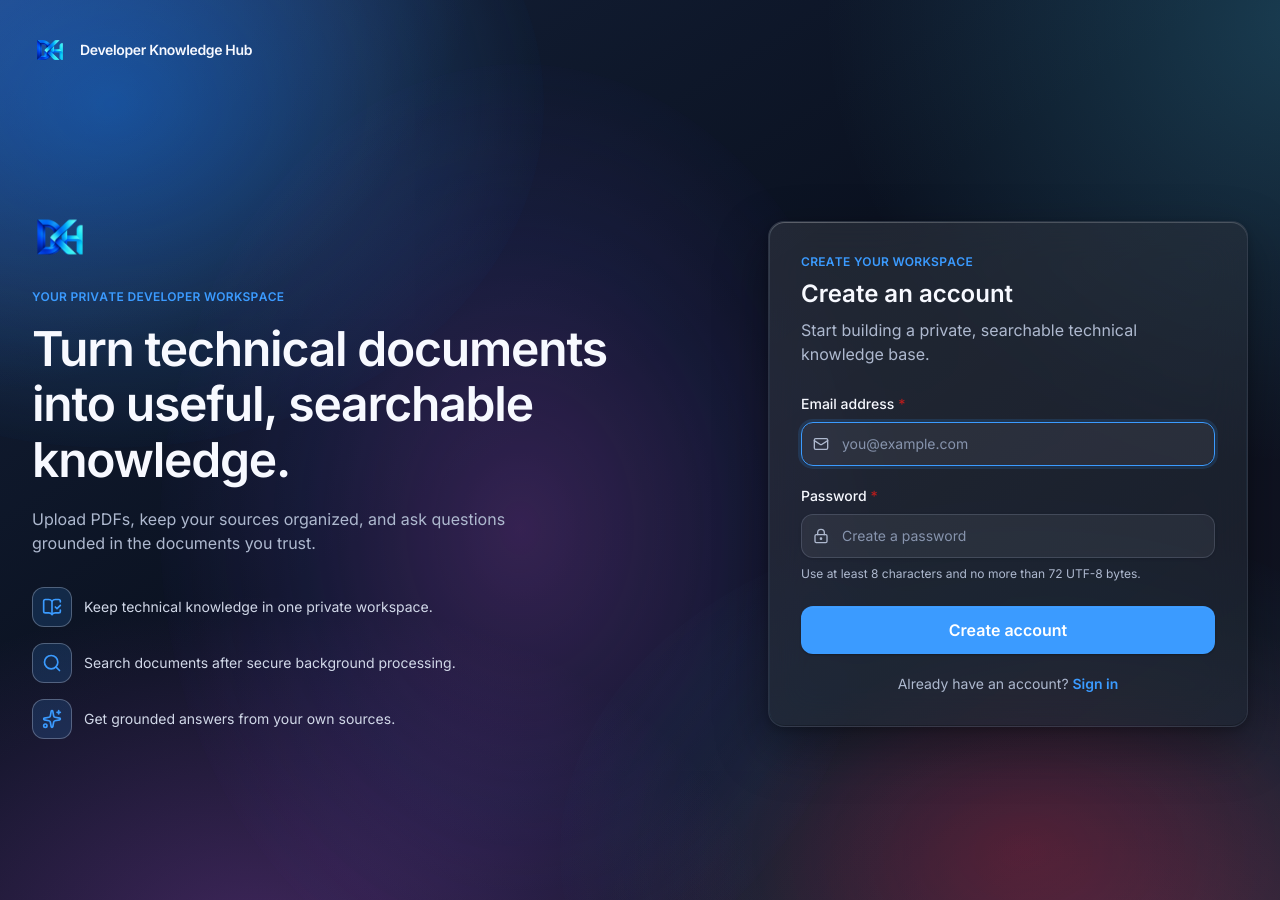
Scenario: authentication pages › returns a newly registered user to Login because registration creates no session
This screenshot has width=1280, height=900.
Step 1. Type "new.developer@example.com" into the field labelled "Email address*" → point(1008, 444), box [801,422,1215,466]
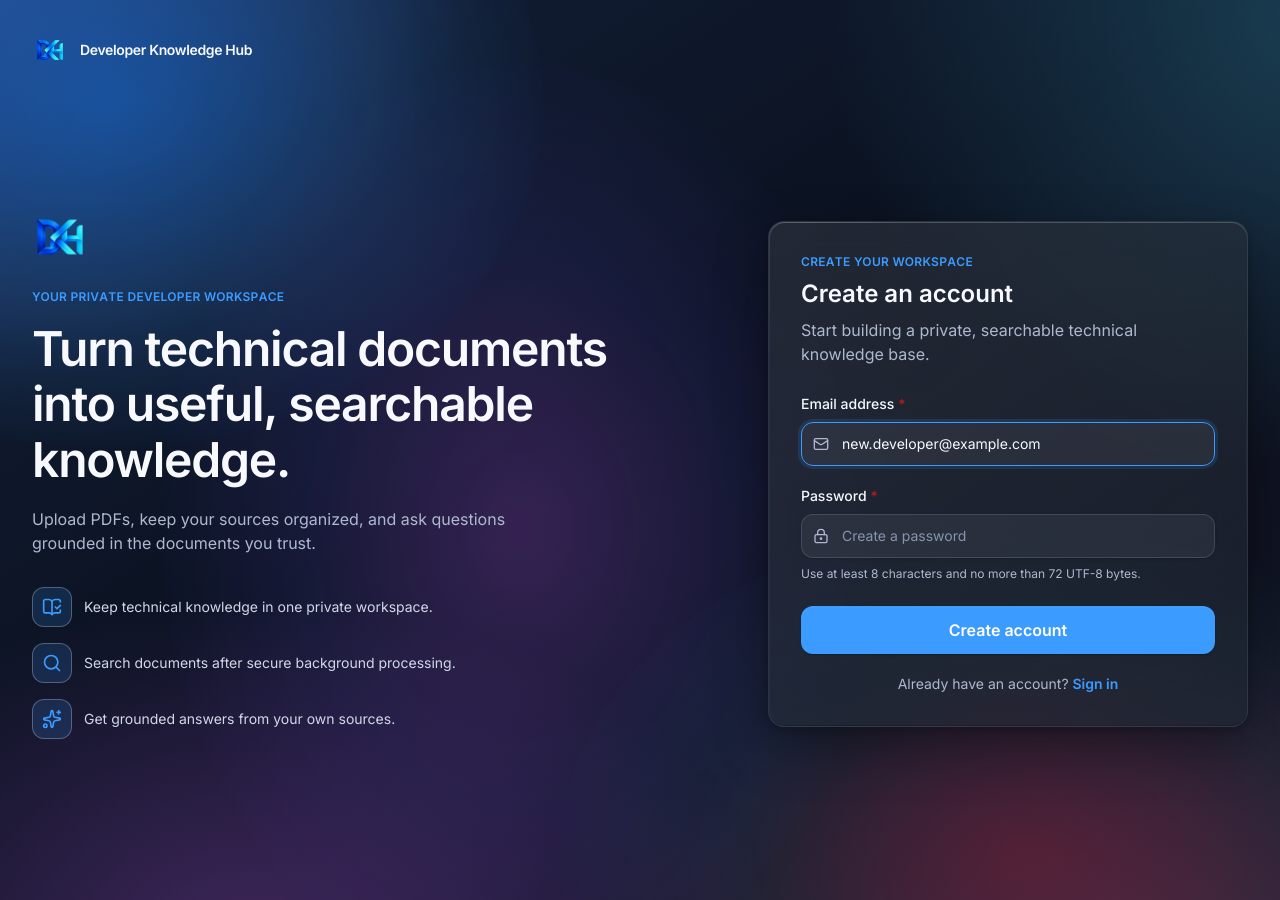
Step 2. Type "password123" into the password field labelled "Password*" → point(1008, 536), box [801,514,1215,558]
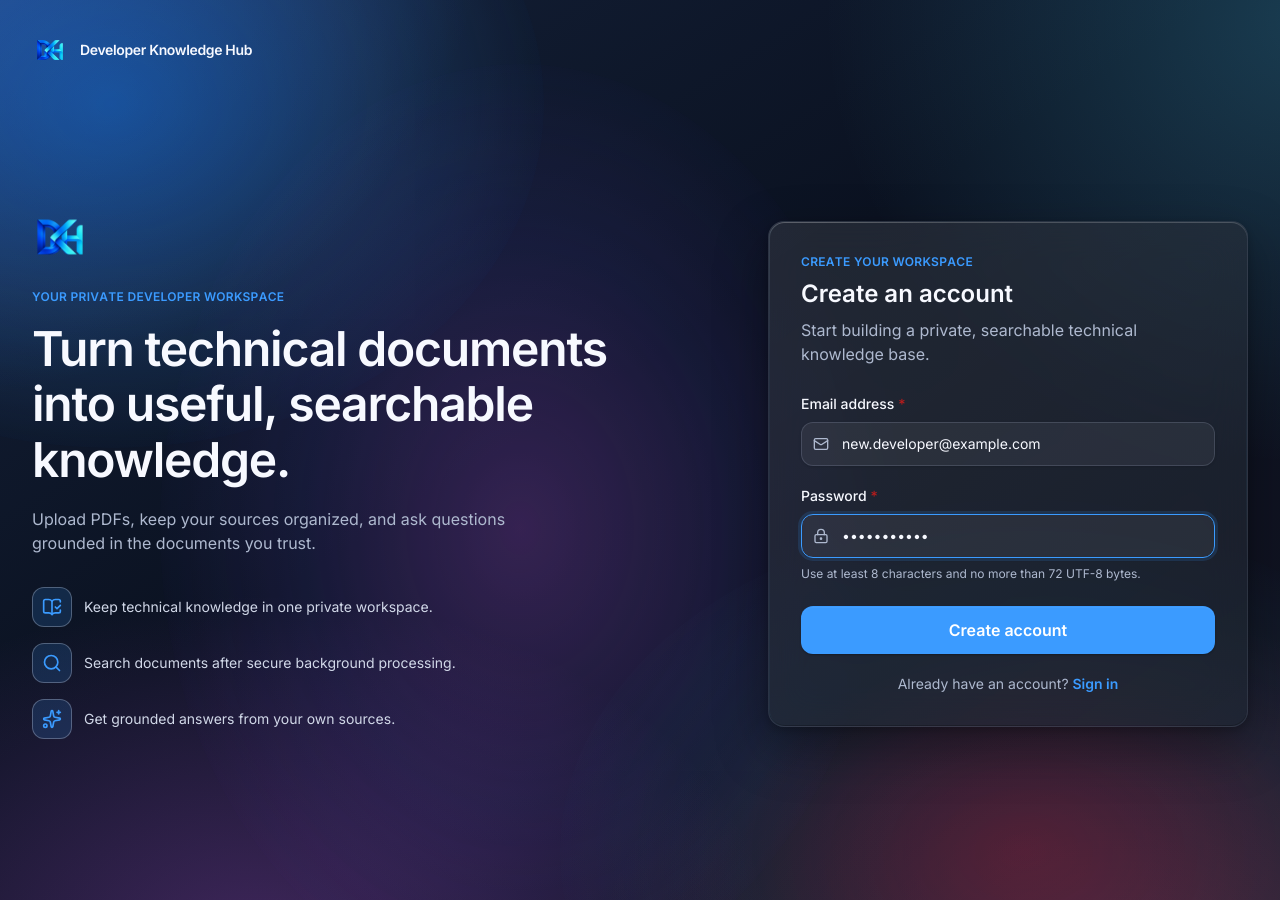
Step 3. Click the button "Create account" → point(1008, 630), box [801,606,1215,654]
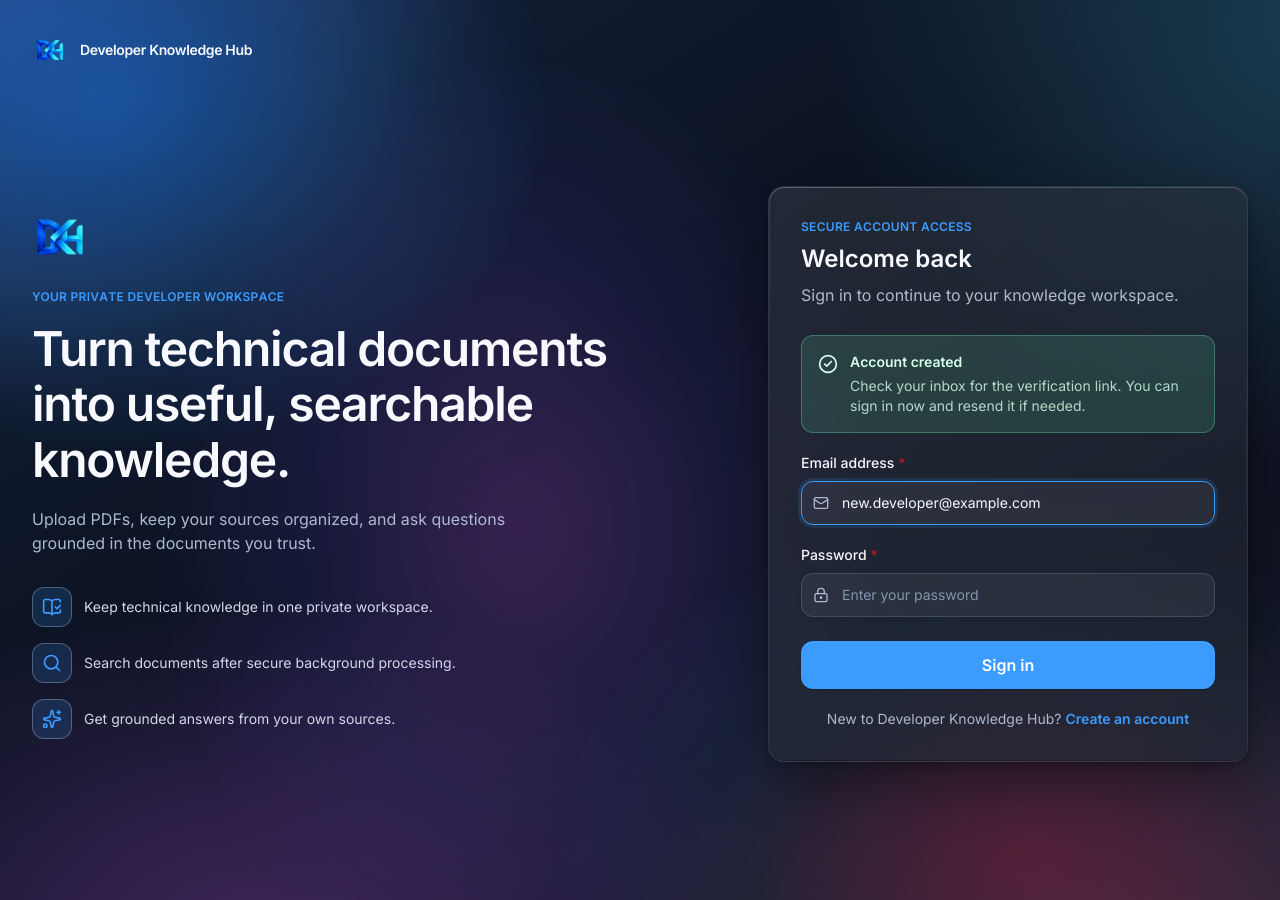
Result: the heading "Welcome back" is shown at [801,244,972,273]
Result: the message shows "Check your inbox" at [850,377,1179,414]
Result: the field labelled "Email address*" holds "new.developer@example.com" at [801,481,1215,525]
